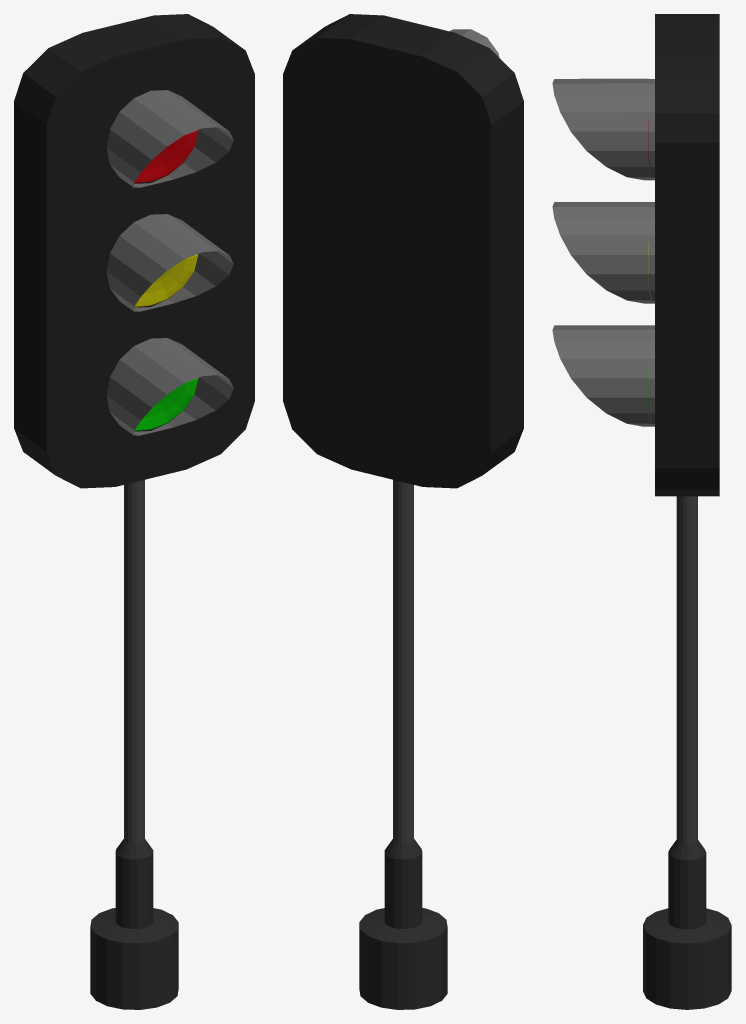
File: lowpoly_traffic_light_-_low_poly_free.glb
The picture shows the model from 3 angles, left to right: view 1: azimuth 30°, elevation 25°; view 2: azimuth 150°, elevation 25°; view 3: azimuth 270°, elevation 25°; orthographic projection.
Parts seen in each view (by area): view 1: Cube; view 2: Cube; view 3: Cube.
Boxes of the visible parts, x1,y1,x2,y2 form: Cube: (14,14,254,1009); Cube: (283,14,523,1009); Cube: (552,14,731,1009).
Size of the model in its own units: 2.78 by 12.19 by 2.08.
